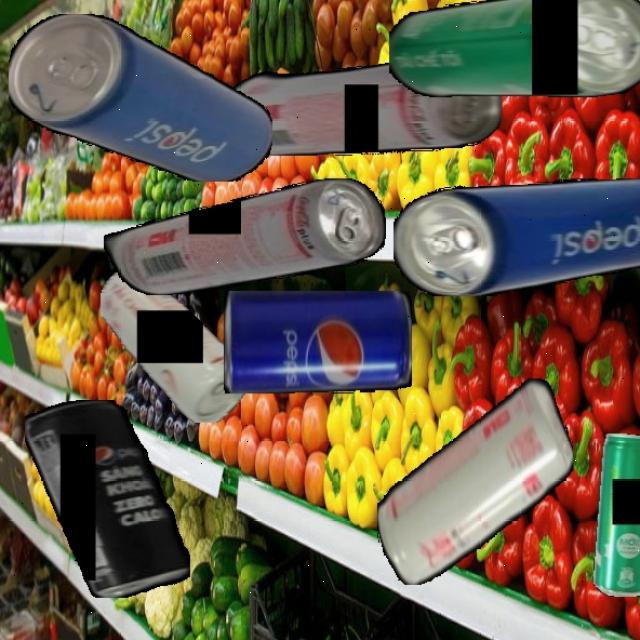debris: (9, 13, 272, 182), (376, 377, 573, 585), (103, 177, 386, 295), (25, 399, 190, 598), (393, 177, 640, 296), (220, 56, 502, 156), (388, 0, 640, 97), (100, 267, 248, 423), (223, 290, 412, 394), (592, 432, 640, 597)
